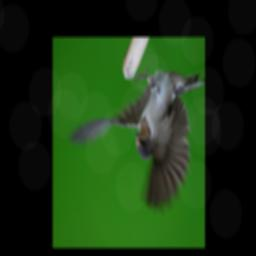Swallow: (69, 67, 202, 213)
